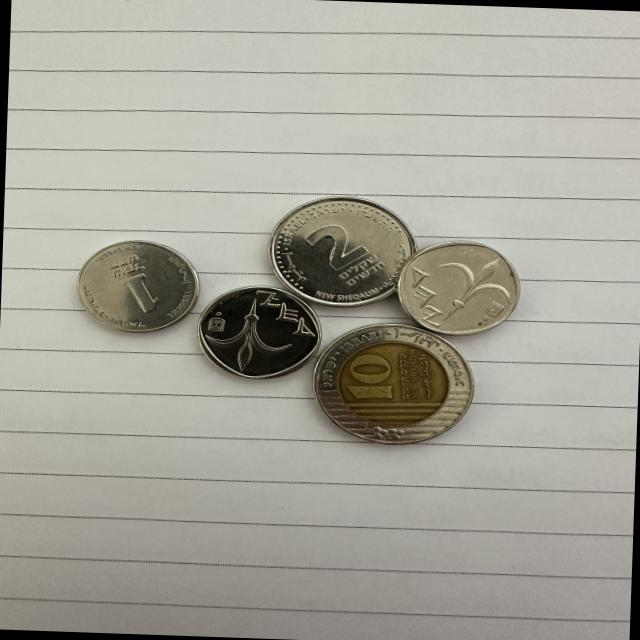1-shekel: (394, 239, 528, 338), (195, 282, 322, 384), (72, 237, 202, 335)
10-shekel: (309, 316, 475, 449)
2-shekel: (266, 192, 414, 311)
